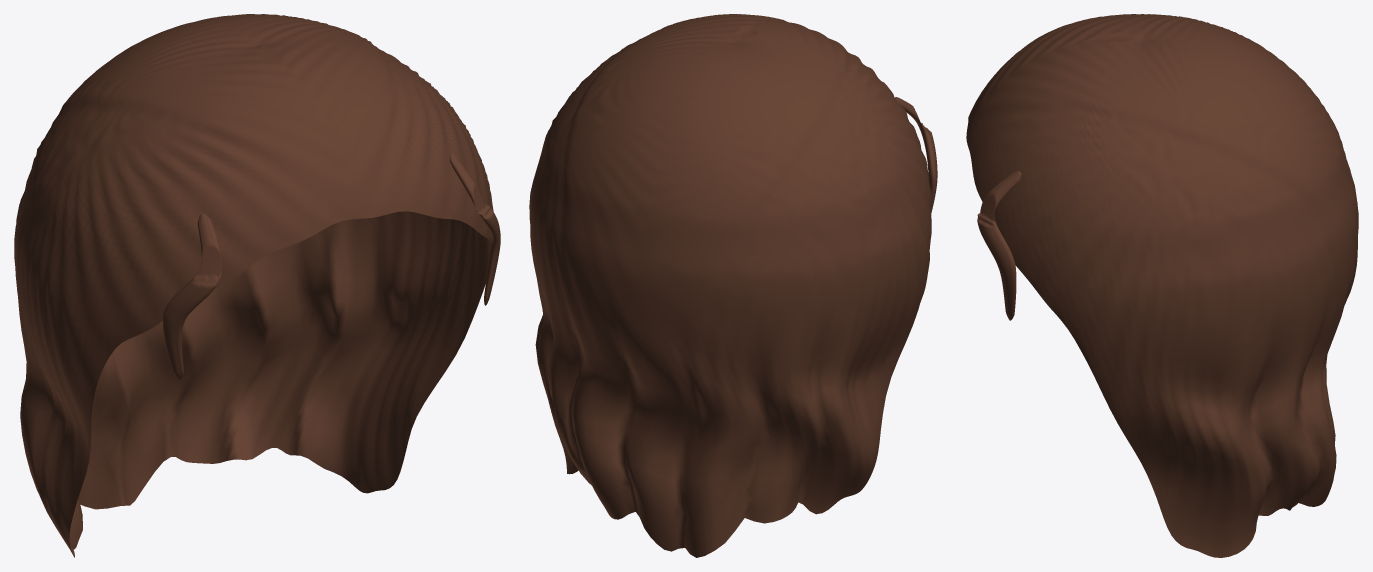
File: space-buns-cowboy.glb
The picture shows the model from 3 angles, left to right: view 1: azimuth 30°, elevation 25°; view 2: azimuth 150°, elevation 25°; view 3: azimuth 270°, elevation 25°; orthographic projection. The views are drawn at different scales.
Parts seen in each view (by area): view 1: 226 hair / Hair / chestnut226.002; view 2: 226 hair / Hair / chestnut226.002; view 3: 226 hair / Hair / chestnut226.002.
Boxes of the visible parts, x1,y1,x2,y2 form: 226 hair / Hair / chestnut226.002: (14,14,500,557); 226 hair / Hair / chestnut226.002: (529,14,937,557); 226 hair / Hair / chestnut226.002: (966,14,1358,557).
Bounding box in the file's own units: 0.8048 × 0.9644 × 0.7316.
